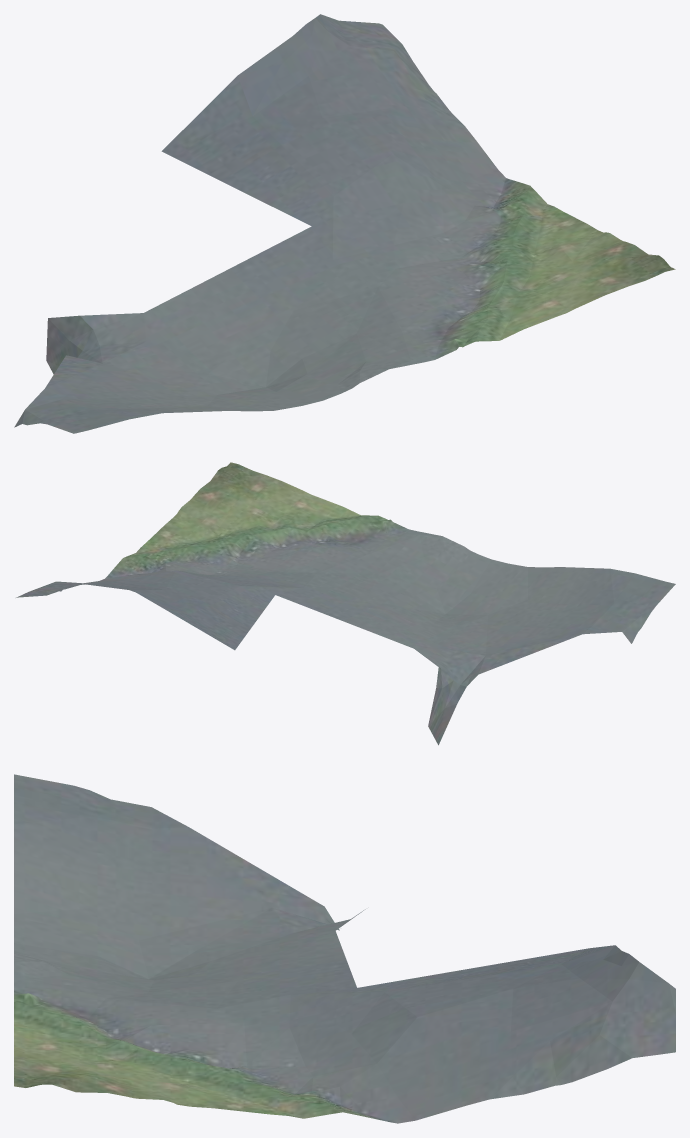
File: Tile__000__005_L20_000110.glb
3 renders of one model, top to bottom at view 1: azimuth 30°, elevation 25°; view 2: azimuth 150°, elevation 25°; view 3: azimuth 270°, elevation 25°, orthographic. The views are drawn at different scales.
Visible parts, largest first — view 1: root; view 2: root; view 3: root.
Part boxes in pixels (x1=…): root: x1=14, y1=14, x2=675, y2=433; root: x1=16, y1=462, x2=675, y2=745; root: x1=14, y1=774, x2=675, y2=1123.
Size of the model in its own units: 30.48 by 11.11 by 25.69.
1 material, 1 textured.
